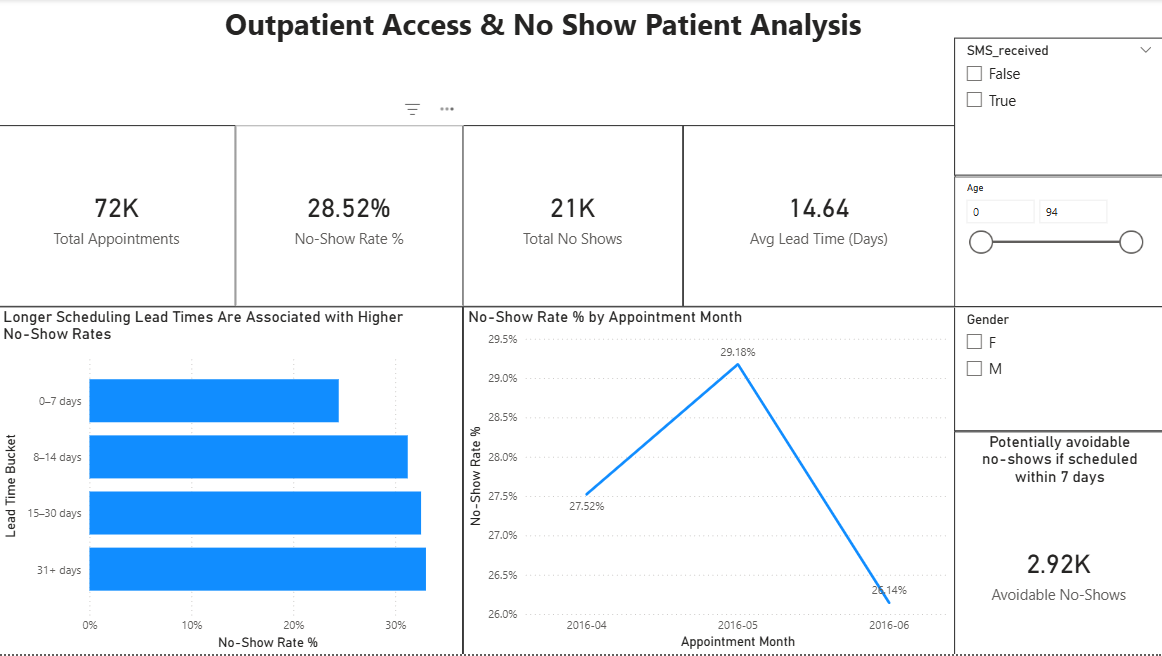

Layout of this report page (visuals, bound fields, positions):
{"tool":"powerbi","page":{"name":"Page 1","canvas":[1280,720],"ordinal":0},"visuals":[{"type":"card","fields":{"Values":["appointments_clean.Total Appointments"]},"box":[0,138.6,260.7,199],"z":0},{"type":"card","fields":{"Values":["appointments_clean.Total No Shows"]},"box":[510.5,138.6,241.5,199],"z":1000},{"type":"card","fields":{"Values":["appointments_clean.No-Show Rate %"]},"box":[260.7,138.6,249.7,199],"z":2000},{"type":"card","fields":{"Values":["appointments_clean.Avg Lead Time (Days)"]},"box":[752,138.6,299.1,199],"z":3000},{"type":"clusteredBarChart","title":"Longer Scheduling Lead Times Are Associated with Higher No-Show Rates","fields":{"Category":["appointments_clean.Lead Time Bucket"],"Y":["appointments_clean.No-Show Rate %"]},"box":[0,337.6,510.5,382.8],"z":4000},{"type":"lineChart","fields":{"Y":["appointments_clean.No-Show Rate %"],"Category":["appointments_clean.Appointment Month"]},"box":[510.5,337.6,540.7,382.8],"z":5000},{"type":"slicer","fields":{"Values":["appointments_clean.Gender"]},"box":[1050,337.1,230,137.1],"z":6000},{"type":"slicer","fields":{"Values":["appointments_clean.SMS_received"]},"box":[1050,42.9,230,151.4],"z":7000},{"type":"slicer","fields":{"Values":["appointments_clean.Age"]},"box":[1050,194.3,230,142.9],"z":8000},{"type":"textbox","box":[244.3,0,734.3,70],"z":9000},{"type":"card","title":"Potentially avoidable no-shows if scheduled within 7 days","fields":{"Values":["appointments_clean.Avoidable No-Shows"]},"box":[1050,474.3,230,245.7],"z":10000}]}

Visuals, with their boxes in screenshot pixels (x1, y1, x2, y2):
card - appointments_clean.Total Appointments: 9,127,242,305
card - appointments_clean.Total No Shows: 466,127,682,305
card - appointments_clean.No-Show Rate %: 242,127,466,305
card - appointments_clean.Avg Lead Time (Days): 682,127,950,305
"Longer Scheduling Lead Times Are Associated with Higher No-Show Rates" clusteredBarChart: 9,305,466,648
lineChart - appointments_clean.No-Show Rate % x appointments_clean.Appointment Month: 466,305,950,648
slicer - appointments_clean.Gender: 949,305,1155,428
slicer - appointments_clean.SMS_received: 949,41,1155,177
slicer - appointments_clean.Age: 949,177,1155,305
textbox: 228,3,885,66
"Potentially avoidable no-shows if scheduled within 7 days" card: 949,428,1155,648
